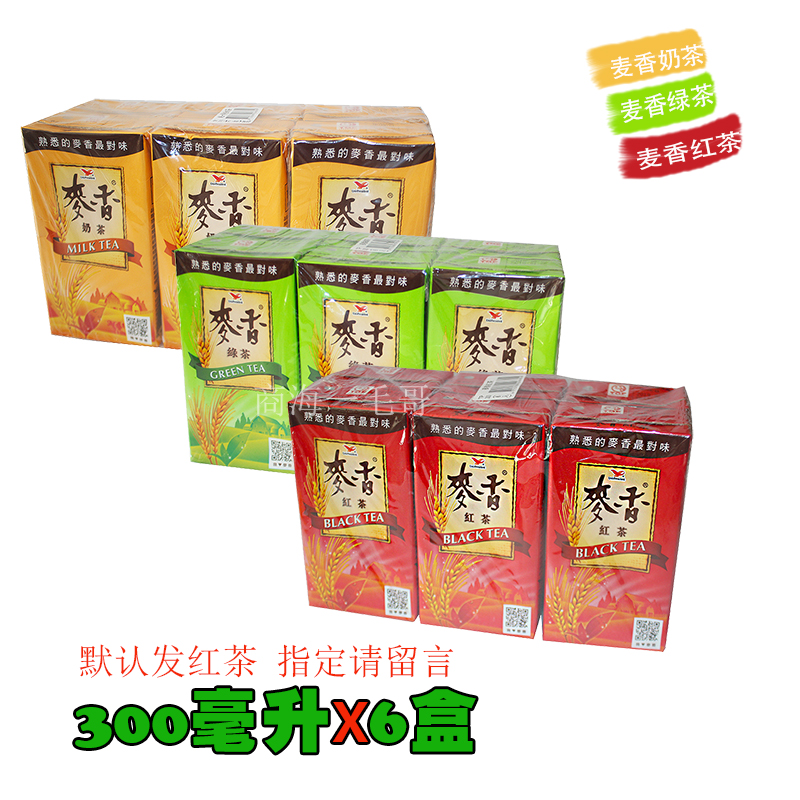milk tea: (21, 82, 160, 357), (152, 83, 292, 235), (296, 88, 436, 240)
